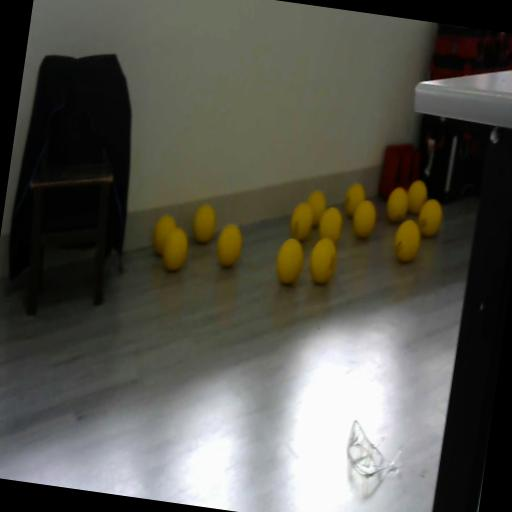FUEL: (306, 234, 340, 286), (273, 236, 306, 286), (390, 216, 424, 264), (213, 220, 245, 270), (150, 211, 178, 258), (190, 202, 219, 245), (416, 196, 444, 240), (350, 198, 378, 241), (316, 205, 344, 245), (384, 184, 411, 224), (304, 188, 330, 228), (404, 178, 430, 217)
